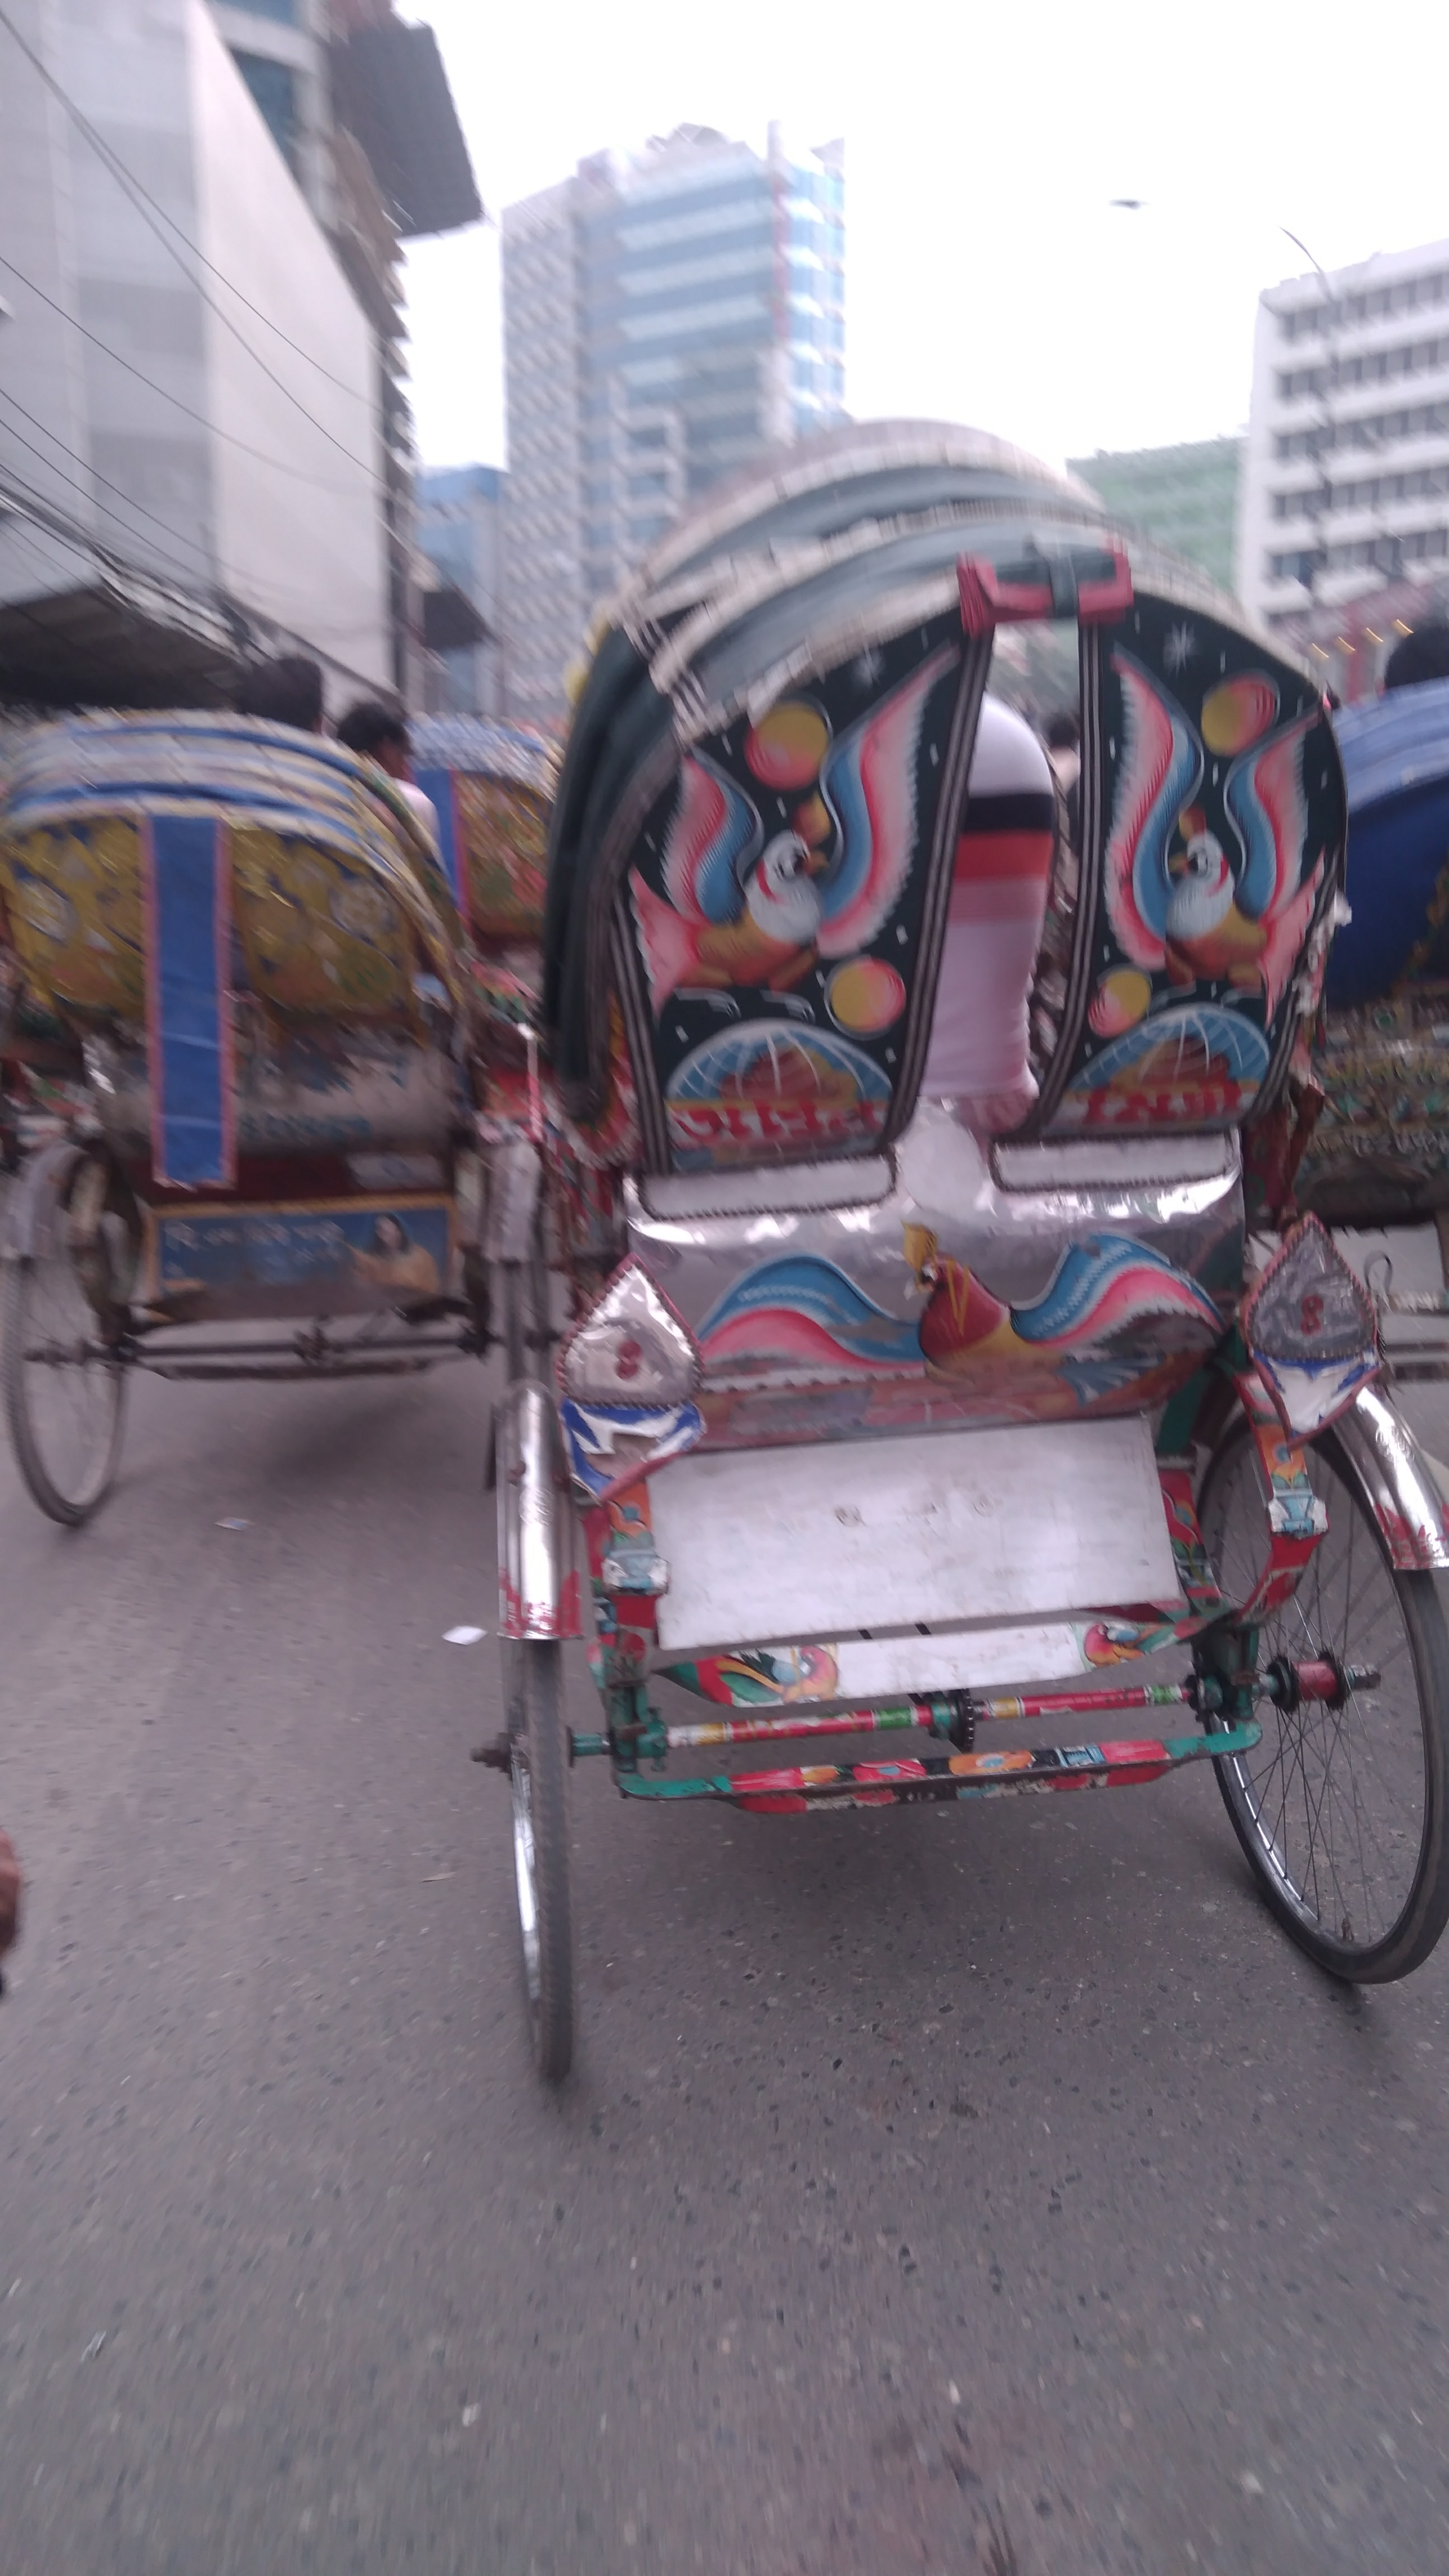Rickshaw: (533, 479, 1435, 2068), (14, 679, 515, 1460), (1276, 663, 1444, 1428), (386, 688, 561, 1079)
